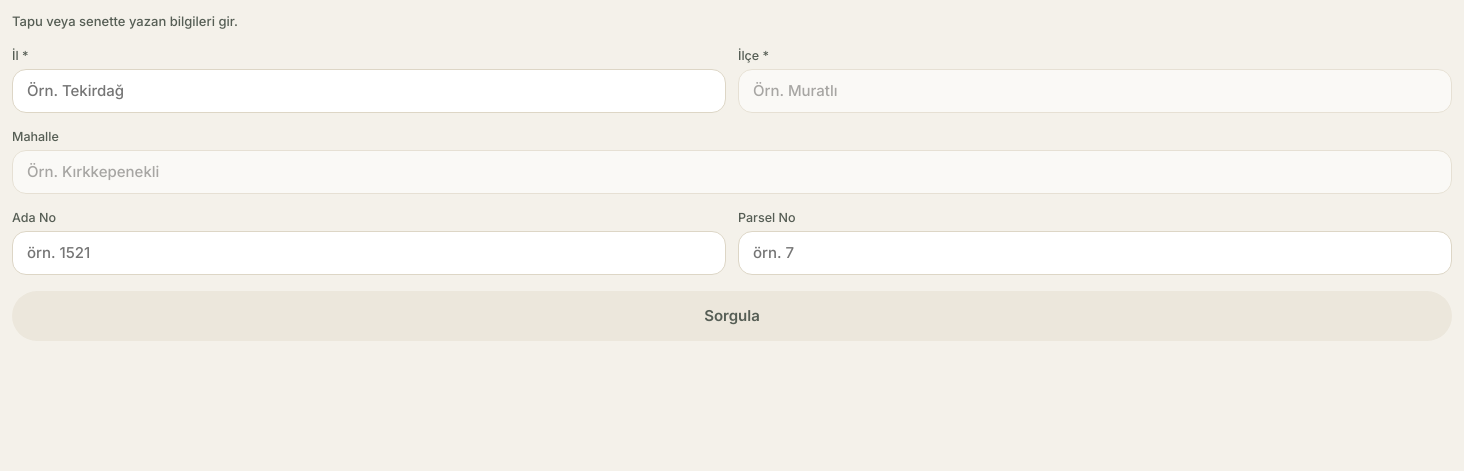
Test: ManualParcelEntryForm › sonuc bulunamazsa hata gosterir (mahallesiz, Nominatim yolu)
The width and height of the screenshot is (1464, 471).
Type "Adana" into the dropdown labelled "İl *" at (369, 90), box [12,68,726,112]
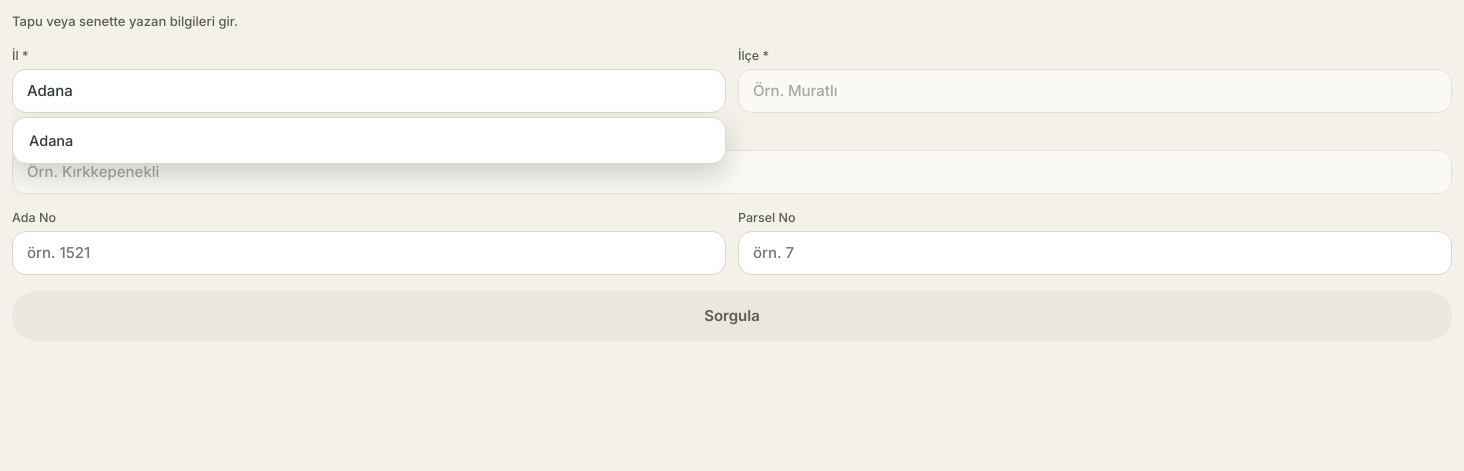
Click the option "Adana" at (51, 140), box [29,132,73,148]
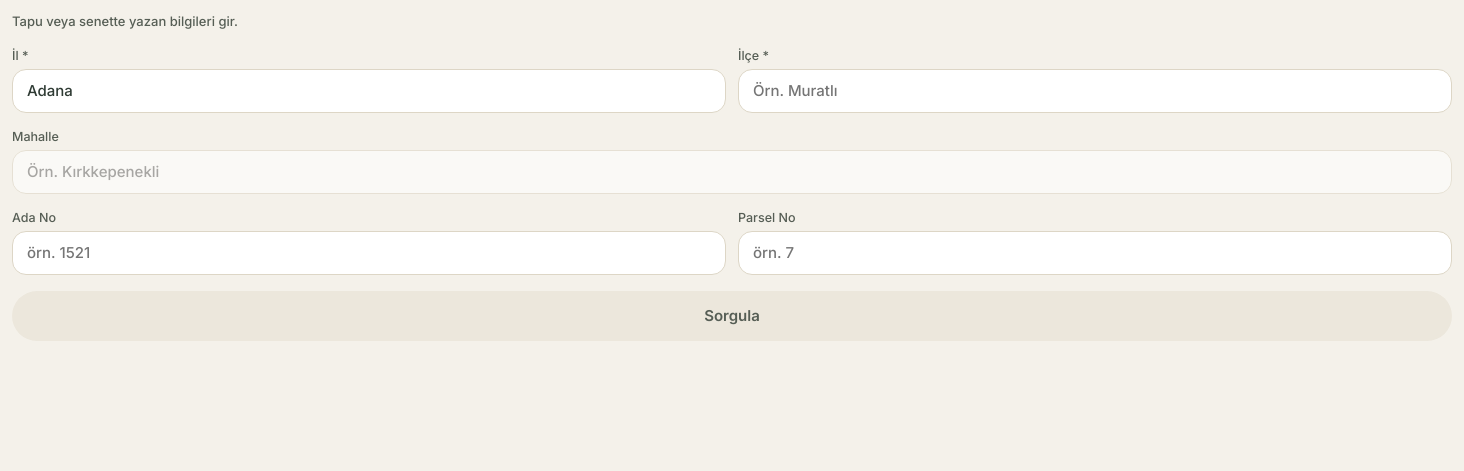
Expected: the dropdown labelled "İlçe *" is enabled
Type "Aladağ" into the dropdown labelled "İlçe *" at (1095, 90), box [738,68,1452,112]
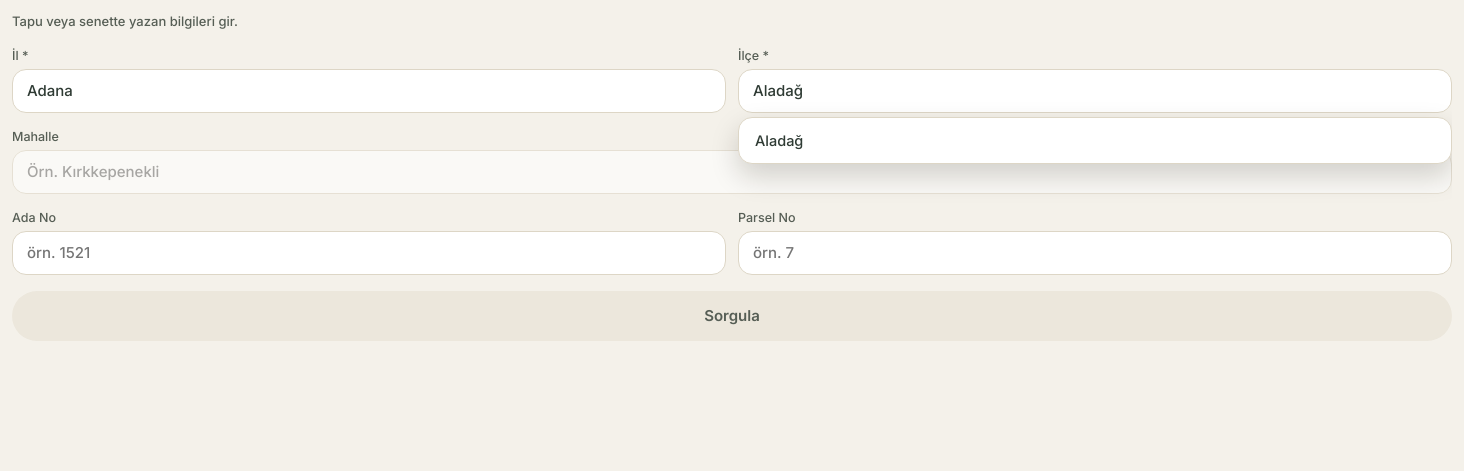
Click the option "Aladağ" at (779, 140), box [755,132,803,148]
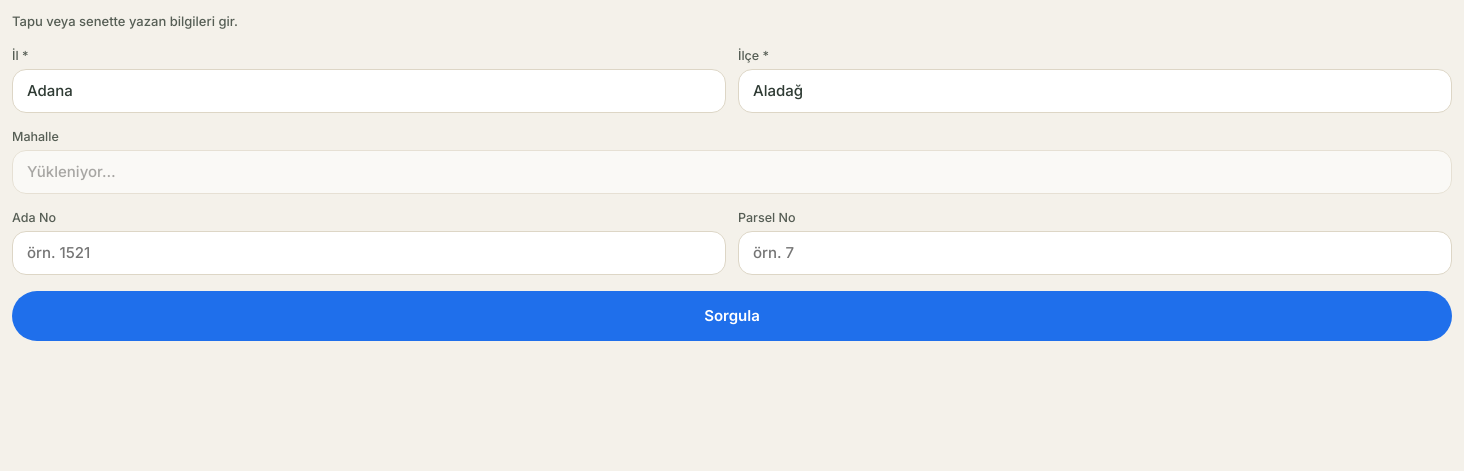
Click the button "Sorgula" at (732, 316), box [12,290,1452,340]
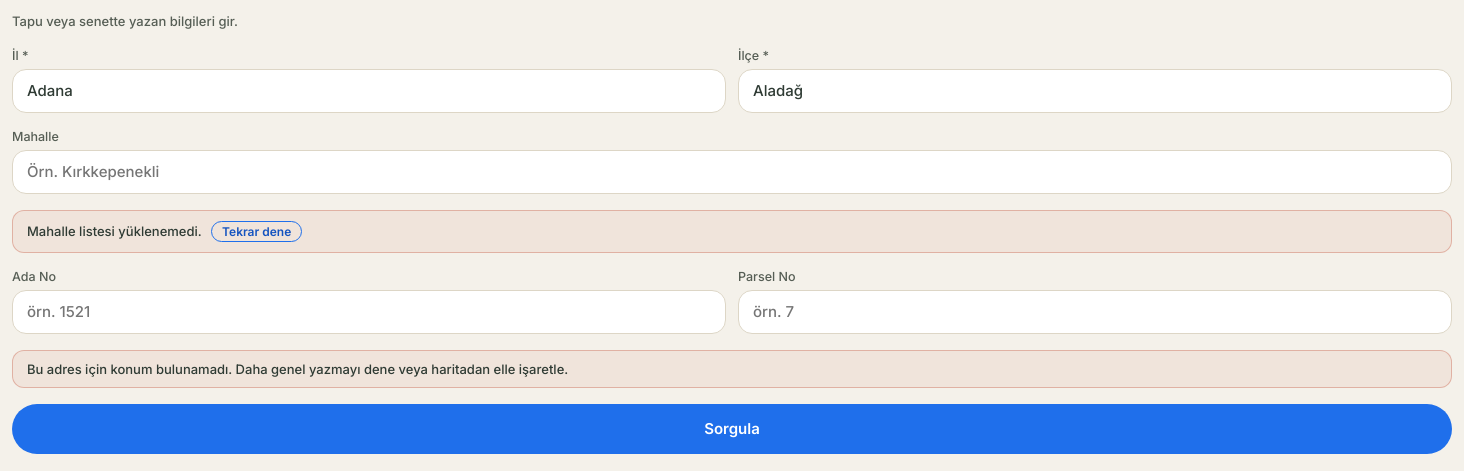
Expected: the text "konum bulunamadı" is shown, [27,360,568,376]
